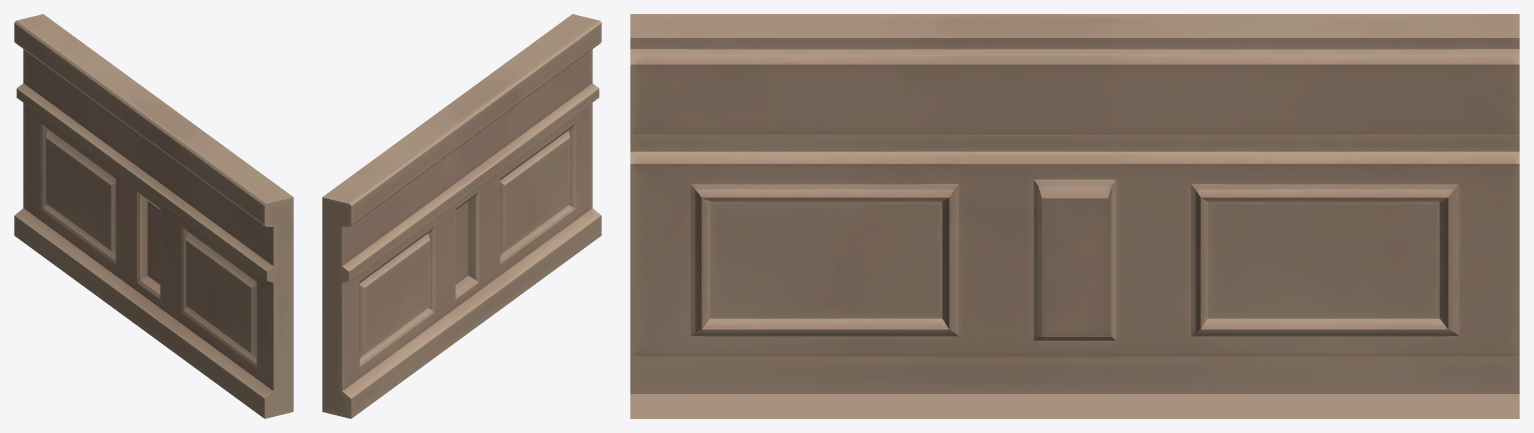
File: WallPanel.fbx
3 renders of one model, left to right at view 1: azimuth 30°, elevation 25°; view 2: azimuth 150°, elevation 25°; view 3: azimuth 270°, elevation 25°, orthographic. The views are drawn at different scales.
Parts seen in each view (by area): view 1: WallPanel; view 2: WallPanel; view 3: WallPanel.
Part boxes in pixels (x1,y1,x2,y2): WallPanel: (14, 14, 293, 418); WallPanel: (322, 14, 601, 418); WallPanel: (630, 14, 1519, 418).
Bounding box in the file's own units: 0.8093 × 5.67 × 12.
